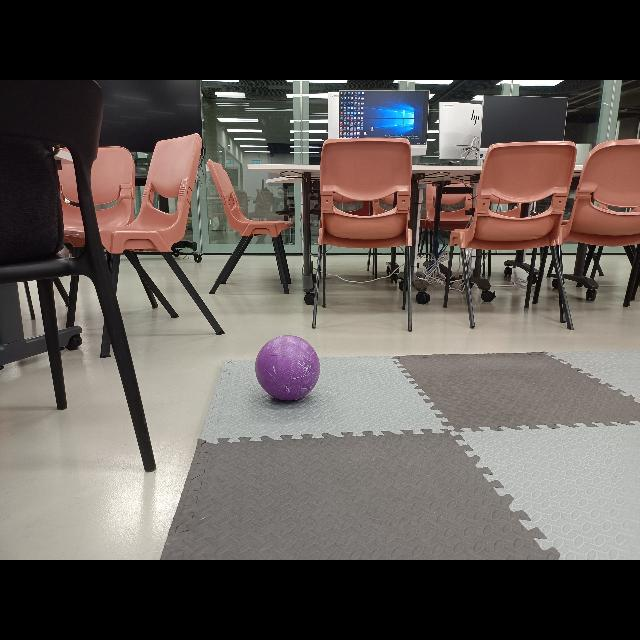P: (253, 336, 320, 408)
